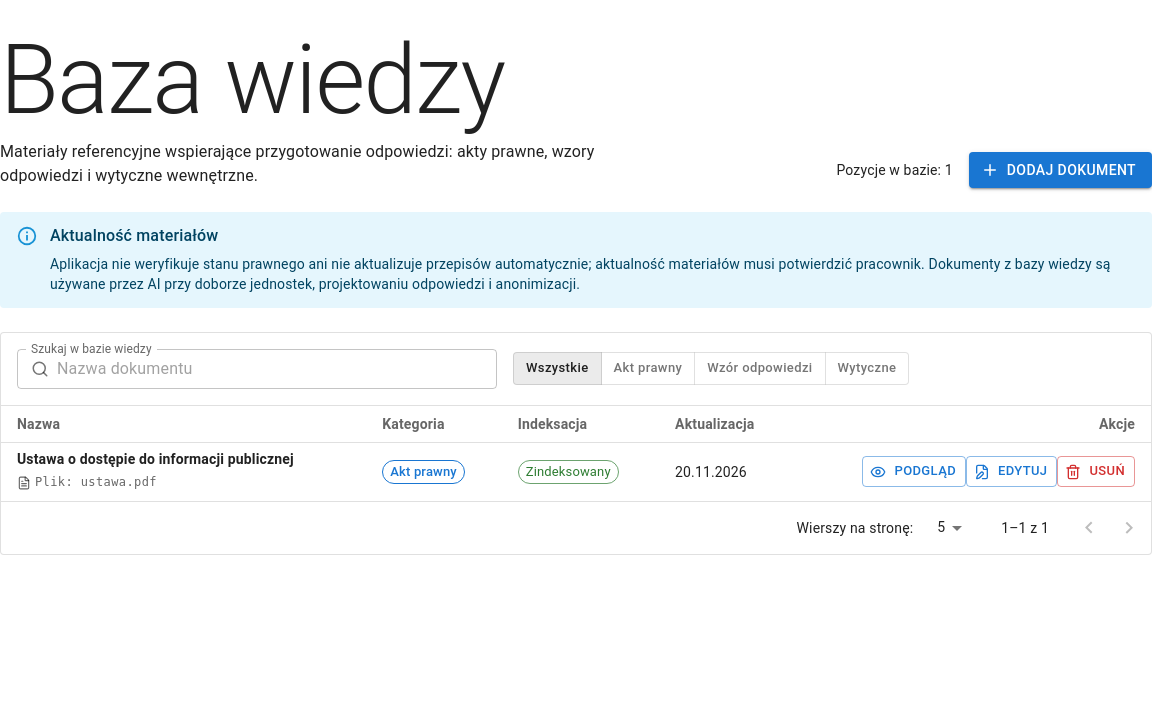
Scenario: KnowledgePage › deletes a document after confirmation
Click the button with aria-label "Usuń: Ustawa o dostępie do informacji publicznej".
click(1096, 472)  # box [1058,456,1135,487]
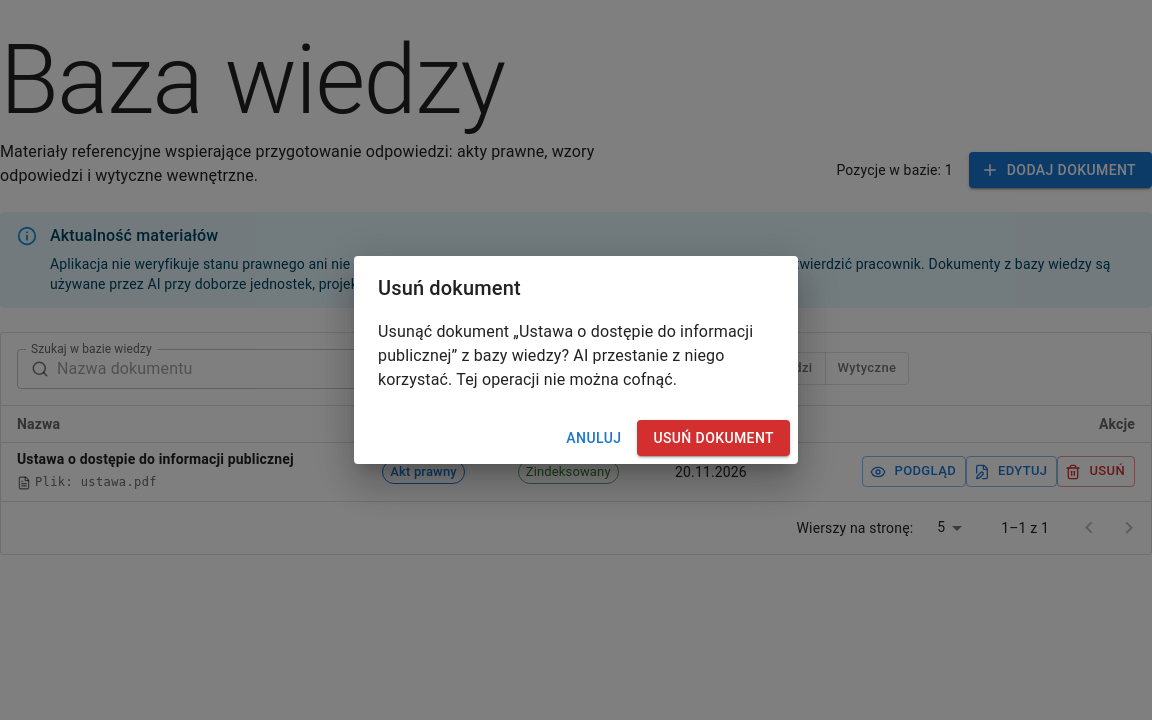
Click the button "Usuń dokument".
click(714, 438)  # box [637,420,790,456]
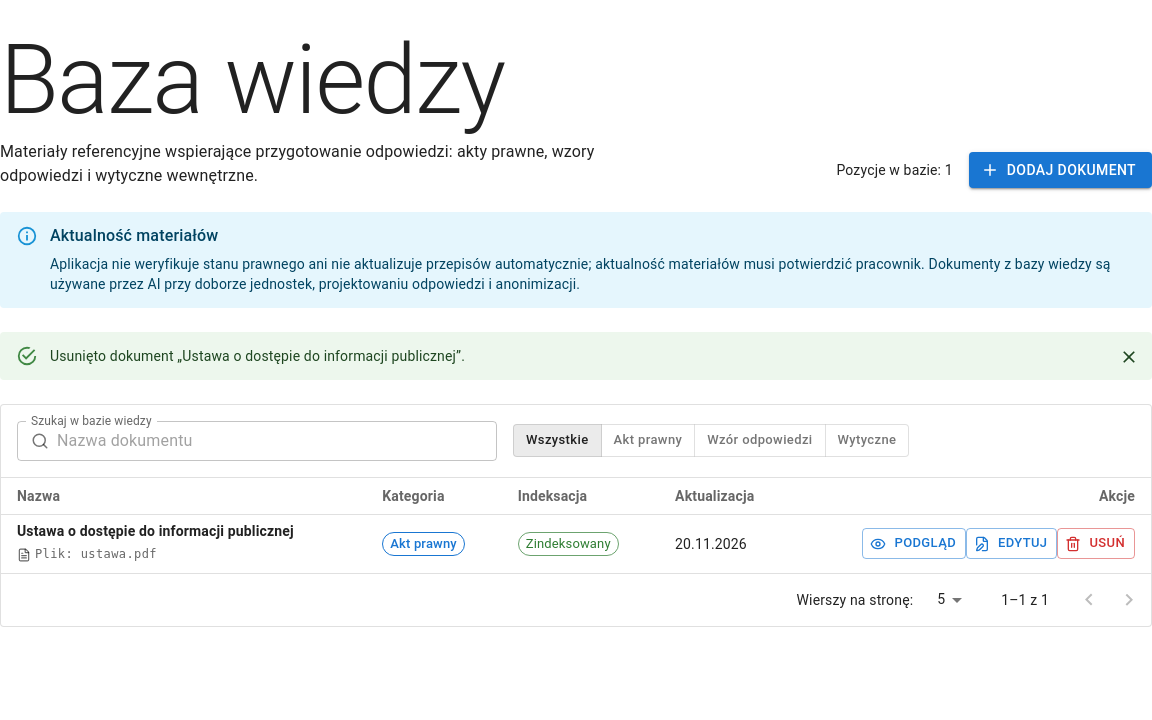
Now the message "Usunięto dokument „Ustawa o dostępie do informacji publicznej”." is shown, box [0,332,1151,380]
